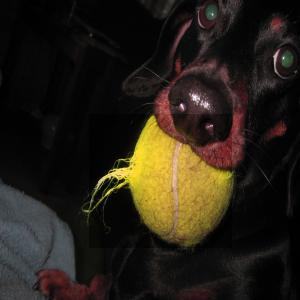TennisBall: (90, 115, 234, 250)
